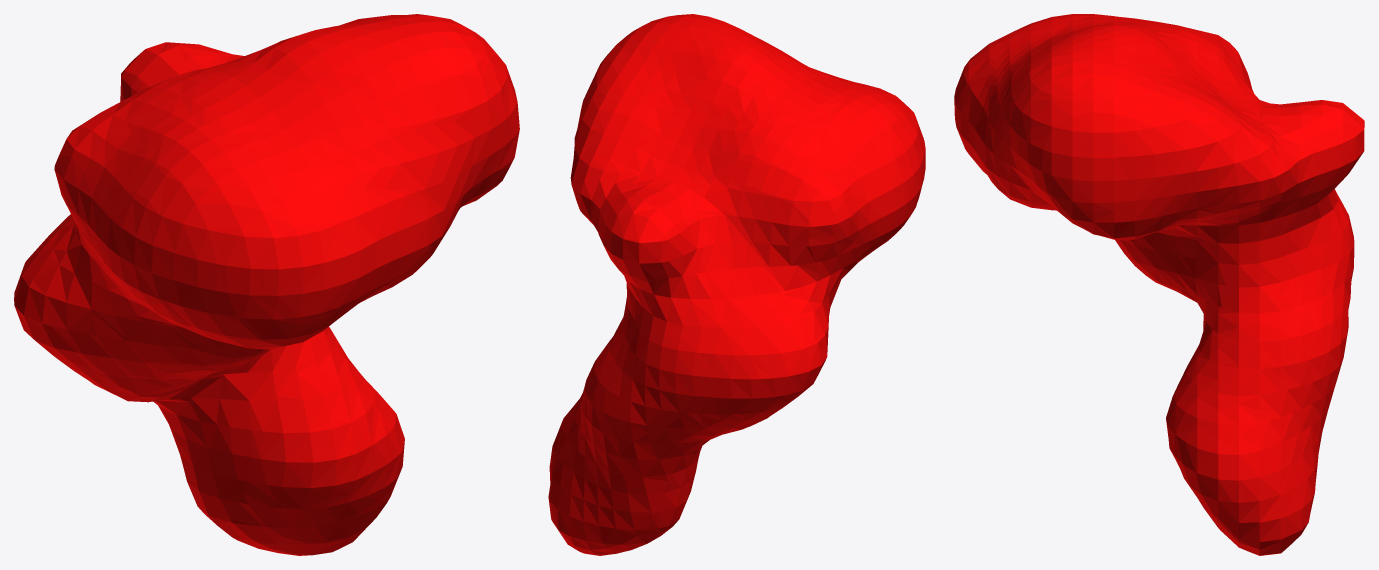
File: rpmH_coarse.dae
3 views of the same model, side by side, from view 1: azimuth 30°, elevation 25°; view 2: azimuth 150°, elevation 25°; view 3: azimuth 270°, elevation 25° (orthographic). The views are drawn at different scales.
Visible parts, largest first — view 1: rpmH; view 2: rpmH; view 3: rpmH.
Boxes of the visible parts, x1,y1,x2,y2 form: rpmH: (14,14,519,555); rpmH: (548,14,925,555); rpmH: (954,14,1364,555).
Size of the model in its own units: 27.5 by 41.01 by 31.06.
